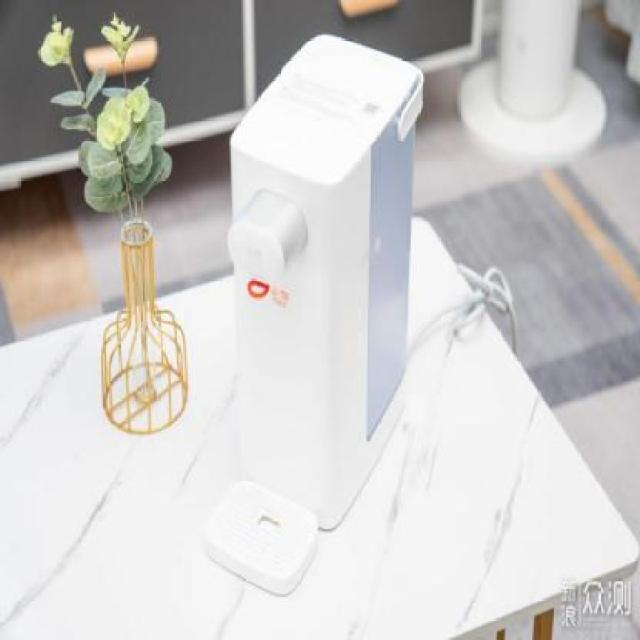cooler: (229, 29, 425, 546)
